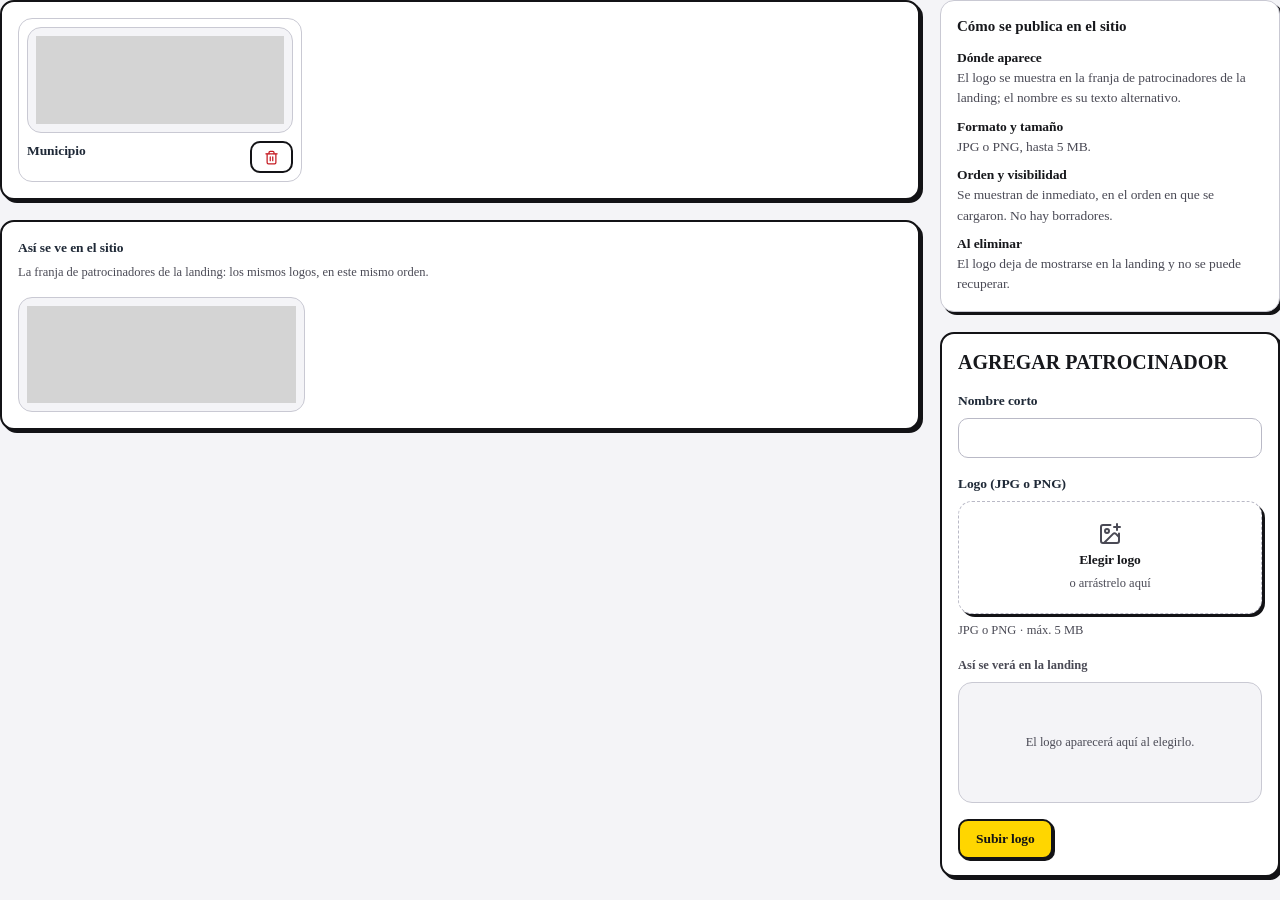
Test: SponsorsPage › requires both the name and logo before upload and focuses the error
Expected: the text "Municipio" is shown, [27,141,86,162]
Click the button "Subir logo".
click(1005, 839)  # box [958,819,1053,859]
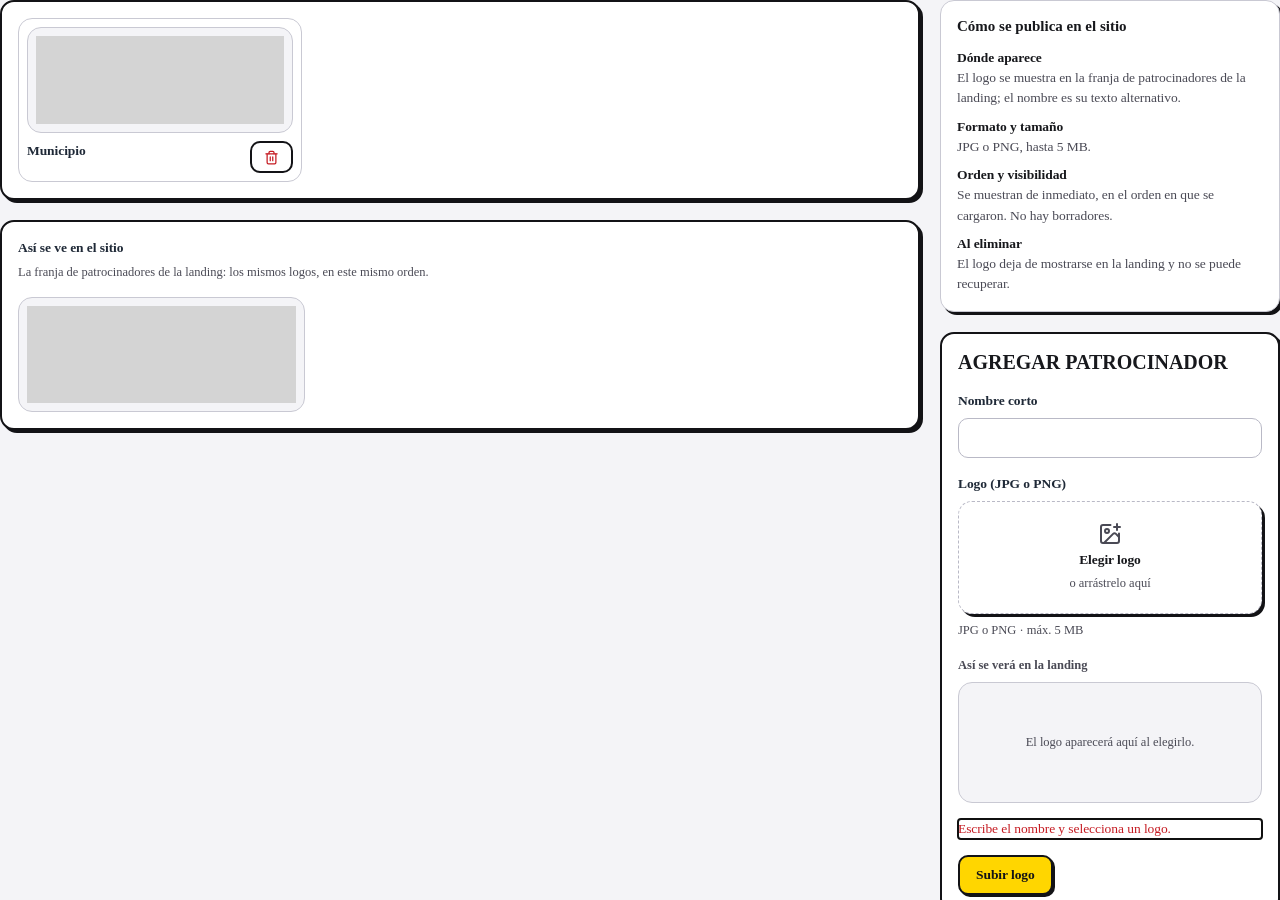
Expected: the message shows "nombre y selecciona", [958,821,1171,836]
